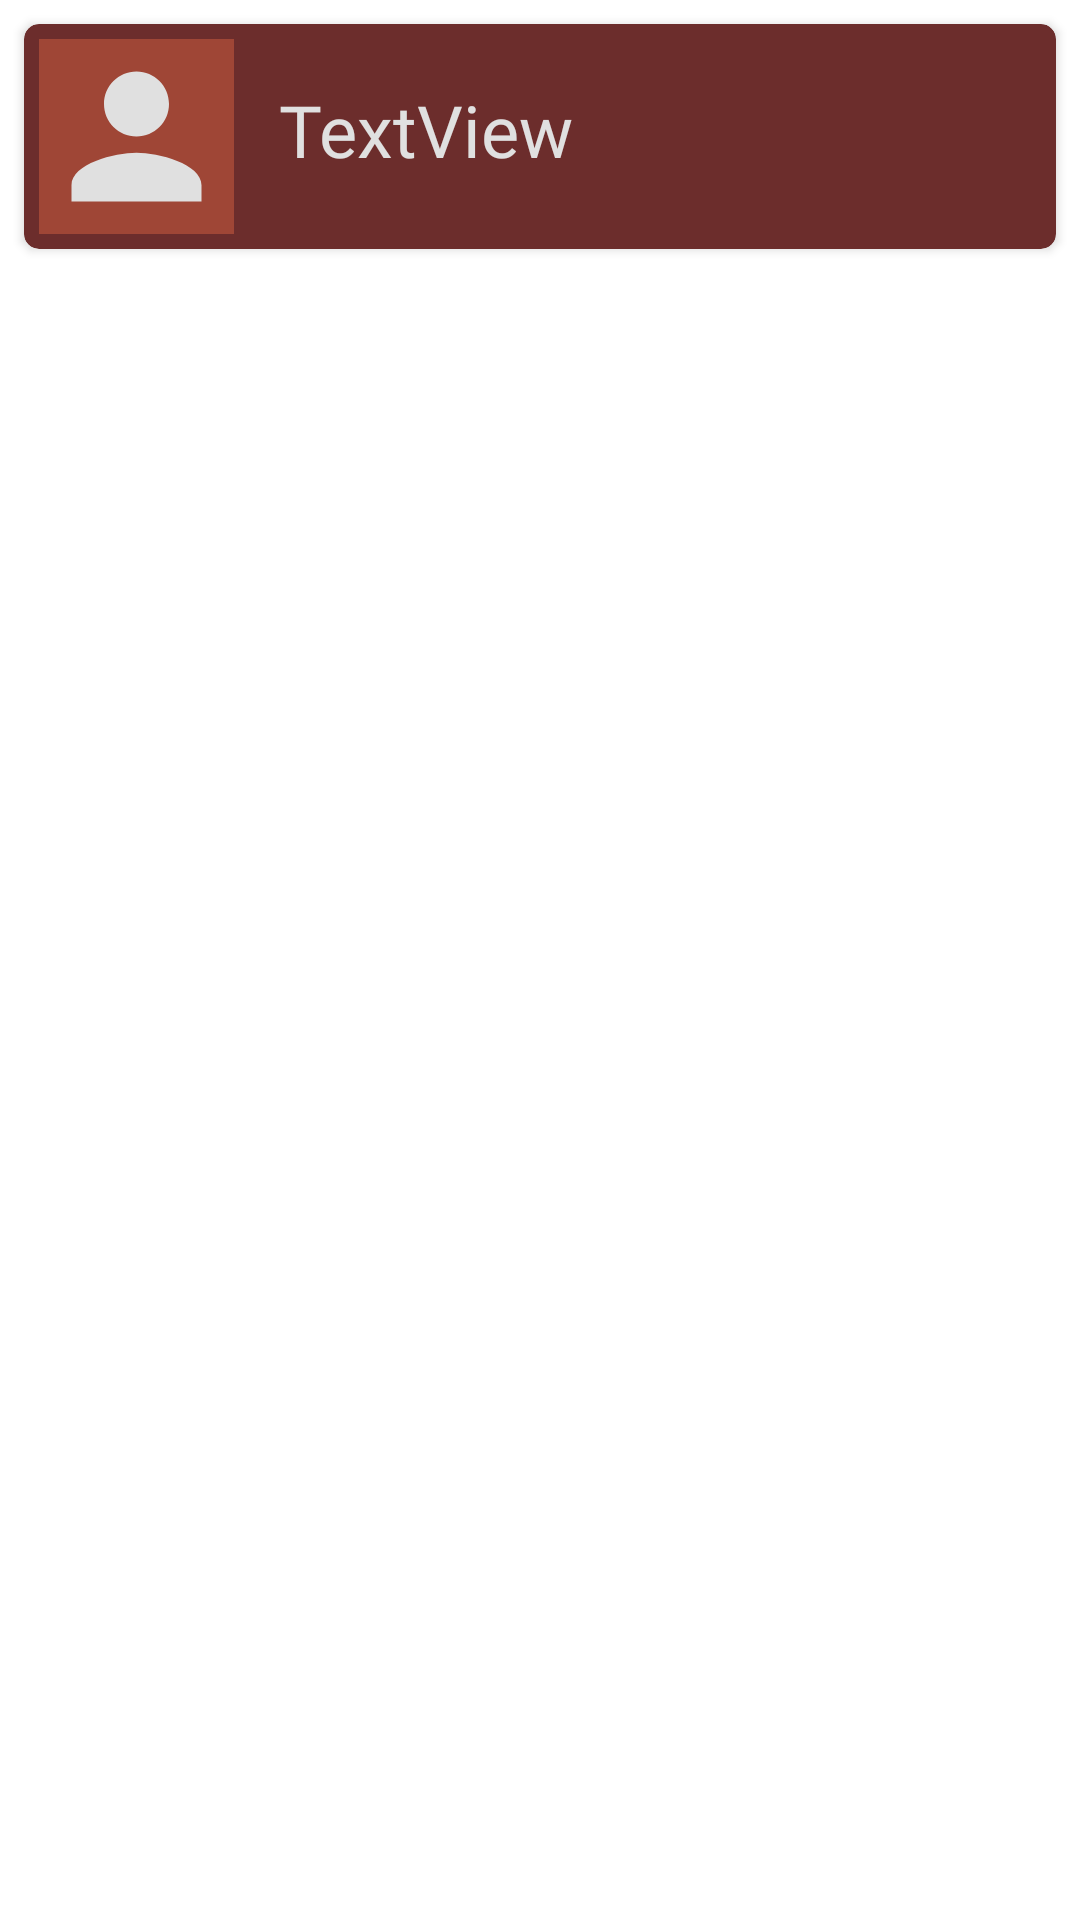

Icons on this 1080w x 1920h Android screen, each with its box as (x1, y1, x2, y2):
person: (39, 39, 234, 234)
